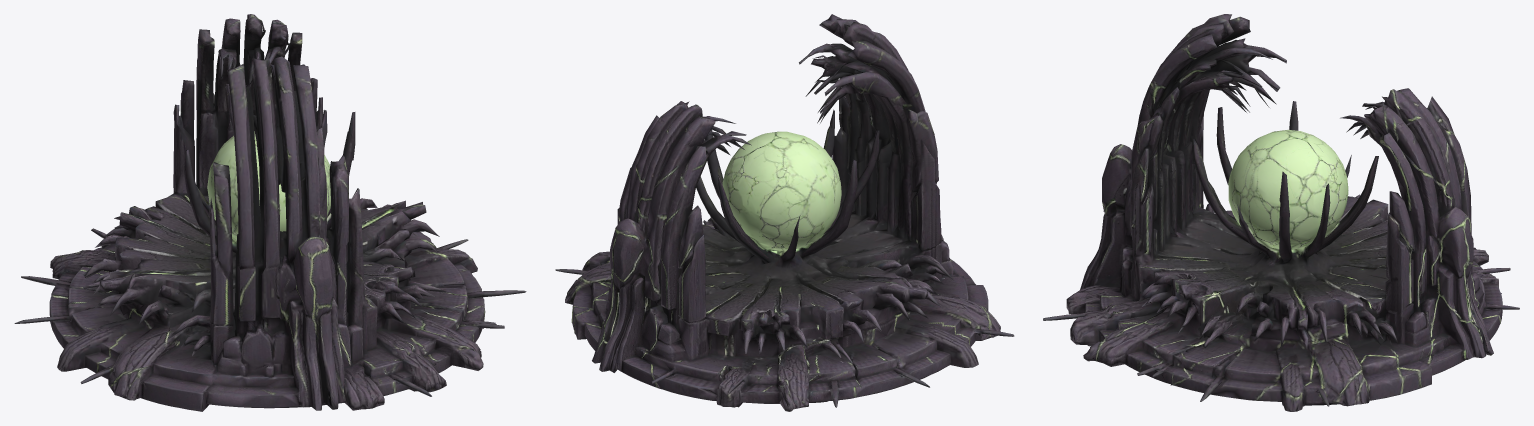
File: Altar1.glb
The picture shows the model from 3 angles, left to right: view 1: azimuth 30°, elevation 25°; view 2: azimuth 150°, elevation 25°; view 3: azimuth 270°, elevation 25°; orthographic projection. The views are drawn at different scales.
Visible parts, largest first — view 1: tripo_node_27058f8f-4f3b-4382-8ead-e82641bfd8c2; view 2: tripo_node_27058f8f-4f3b-4382-8ead-e82641bfd8c2; view 3: tripo_node_27058f8f-4f3b-4382-8ead-e82641bfd8c2.
Part boxes in pixels (box(x1,y1,x2,y2)): tripo_node_27058f8f-4f3b-4382-8ead-e82641bfd8c2: box(14, 14, 526, 411); tripo_node_27058f8f-4f3b-4382-8ead-e82641bfd8c2: box(555, 14, 1014, 411); tripo_node_27058f8f-4f3b-4382-8ead-e82641bfd8c2: box(1043, 14, 1519, 411).
Bounding box in the file's own units: 0.9804 × 0.6437 × 0.9778.
Materials: 1 (1 with a texture image).
